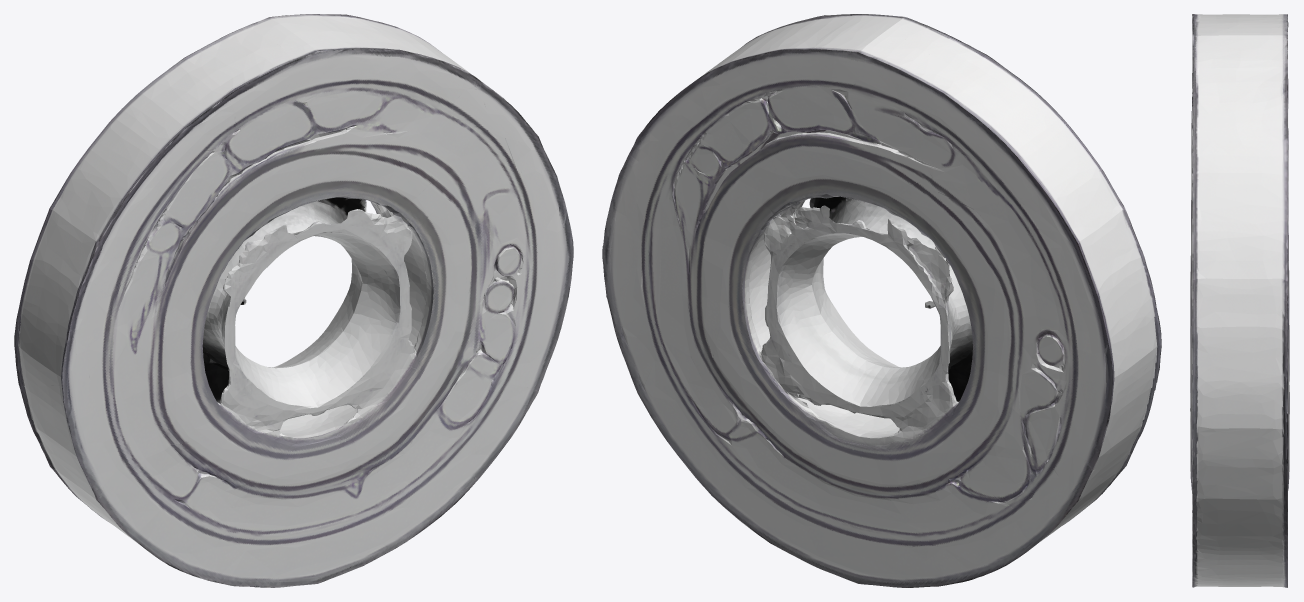
File: rolamento (1).glb
3 views of the same model, side by side, from view 1: azimuth 30°, elevation 25°; view 2: azimuth 150°, elevation 25°; view 3: azimuth 270°, elevation 25° (orthographic).
Parts seen in each view (by area): view 1: world; view 2: world; view 3: world.
Part boxes in pixels (x1,y1,x2,y2): world: (14, 14, 573, 587); world: (602, 14, 1161, 587); world: (1190, 14, 1289, 587).
Size of the model in its own units: 0.9797 by 0.9769 by 0.1664.
1 material, 1 textured.
